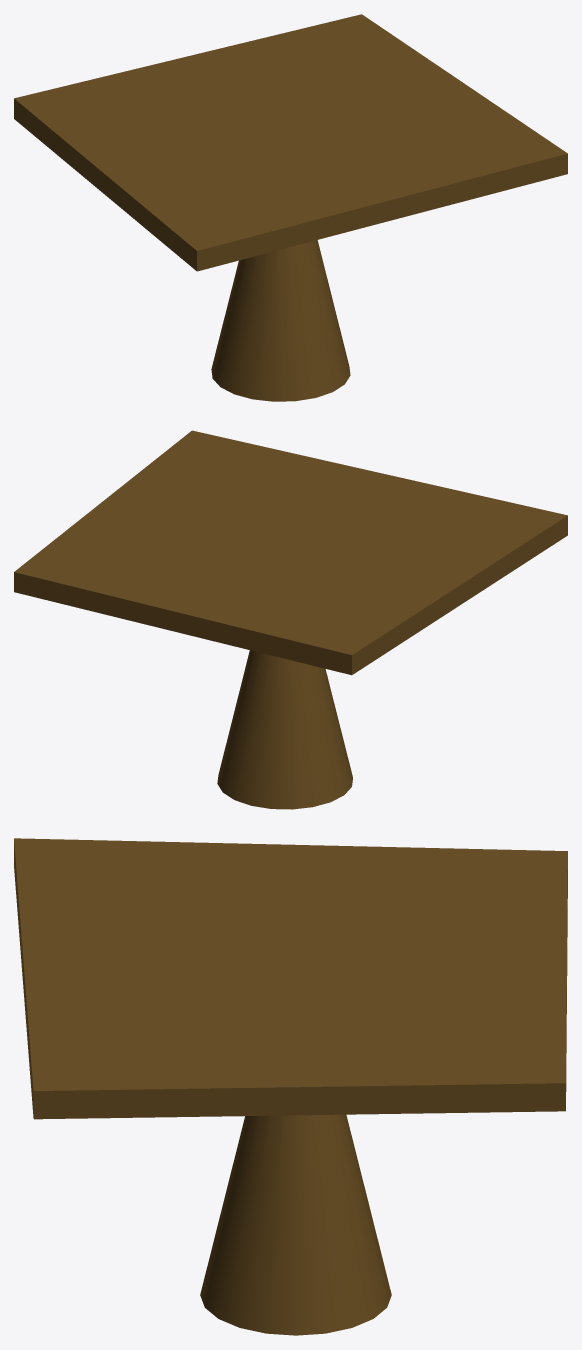
The model's file is Residence Car Table Textured.fbx.
3 views of the same model, one above another, from view 1: azimuth 30°, elevation 25°; view 2: azimuth 150°, elevation 25°; view 3: azimuth 270°, elevation 25° (orthographic). The views are drawn at different scales.
Visible parts, largest first — view 1: pCube1, pCylinder1; view 2: pCube1, pCylinder1; view 3: pCube1, pCylinder1.
Part boxes in pixels (<box>): pCube1: <box>14,14,567,271</box>; pCylinder1: <box>211,240,350,401</box>; pCube1: <box>14,430,567,675</box>; pCylinder1: <box>217,650,352,809</box>; pCube1: <box>14,838,567,1119</box>; pCylinder1: <box>200,1114,391,1335</box>.
Bounding box in the file's own units: 4.16 × 2.55 × 3.86.
1 material, 1 textured.
